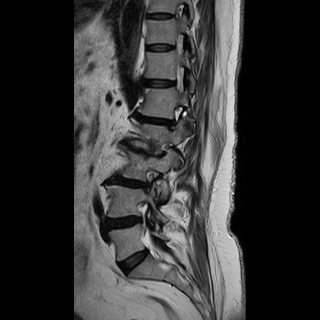LFS1: (161, 101, 191, 135)
LFS3: (134, 164, 167, 200)
